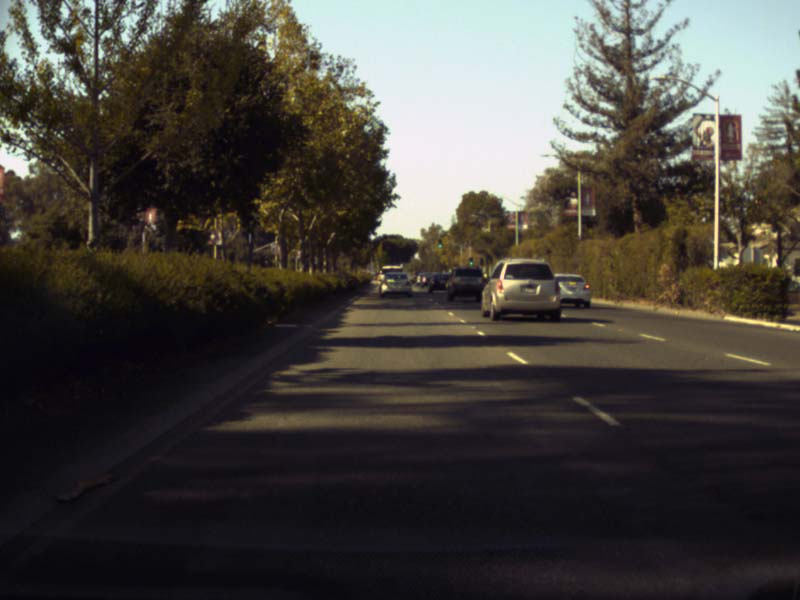Green: (436, 238, 443, 249), (469, 257, 473, 268)
